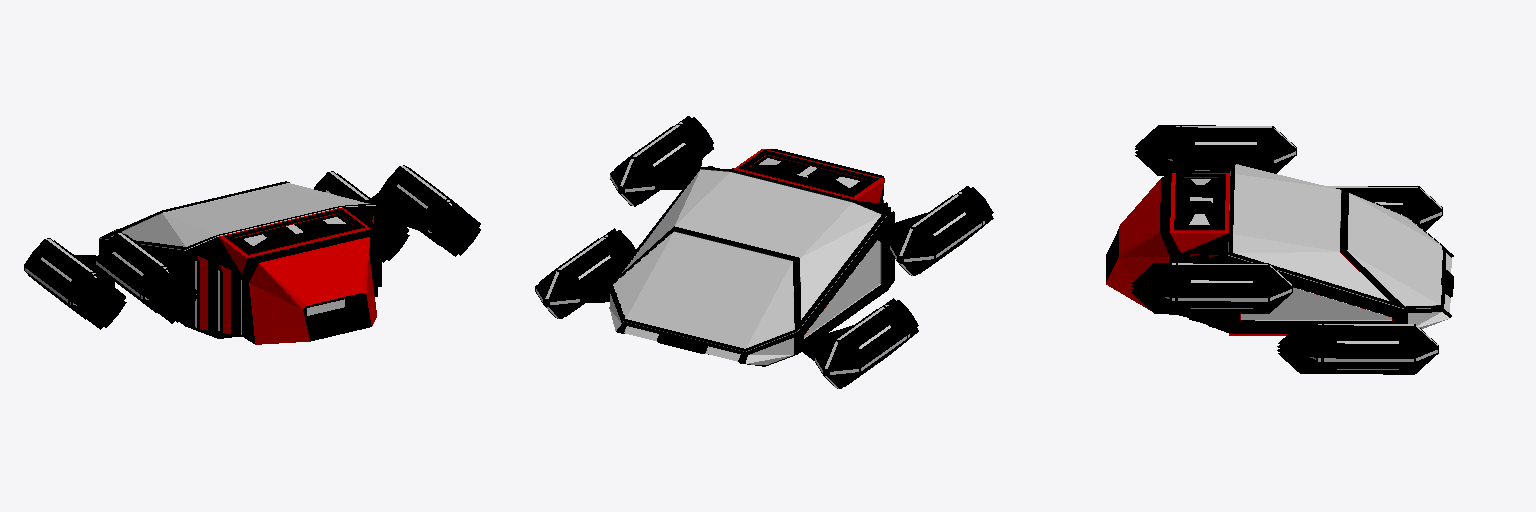
Rendered from tronTwoColour.obj.
3 views of the same model, side by side, from view 1: azimuth 30°, elevation 25°; view 2: azimuth 150°, elevation 25°; view 3: azimuth 270°, elevation 25° (orthographic).
Parts seen in each view (by area): view 1: r_Cube.018, Cube.007_Cube.014, Cube.003_Cube.015, Cube.001_Cube.013, Cube.002_Cube.003; view 2: r_Cube.018, Cube.005_Cube.019, Cube.001_Cube.013, Cube.007_Cube.014, Cube.003_Cube.015, Cube.002_Cube.003; view 3: r_Cube.018, Cube.005_Cube.019, Cube.003_Cube.015, Cube.002_Cube.003, Cube.007_Cube.014, Cube.001_Cube.013.
Part boxes in pixels (bbox=[...]): r_Cube.018: bbox=[99, 181, 381, 344]; Cube.007_Cube.014: bbox=[95, 232, 197, 323]; Cube.003_Cube.015: bbox=[365, 165, 480, 256]; Cube.001_Cube.013: bbox=[24, 238, 126, 329]; Cube.002_Cube.003: bbox=[314, 171, 409, 262]; r_Cube.018: bbox=[609, 149, 894, 366]; Cube.005_Cube.019: bbox=[610, 228, 797, 351]; Cube.001_Cube.013: bbox=[798, 298, 918, 388]; Cube.007_Cube.014: bbox=[873, 186, 993, 275]; Cube.003_Cube.015: bbox=[610, 116, 713, 206]; Cube.002_Cube.003: bbox=[535, 228, 635, 318]; r_Cube.018: bbox=[1106, 163, 1453, 335]; Cube.005_Cube.019: bbox=[1344, 190, 1444, 308]; Cube.003_Cube.015: bbox=[1131, 263, 1292, 313]; Cube.002_Cube.003: bbox=[1277, 323, 1438, 374]; Cube.007_Cube.014: bbox=[1135, 125, 1296, 175]; Cube.001_Cube.013: bbox=[1328, 186, 1442, 230].
Size of the model in its own units: 2.19 by 0.7635 by 2.